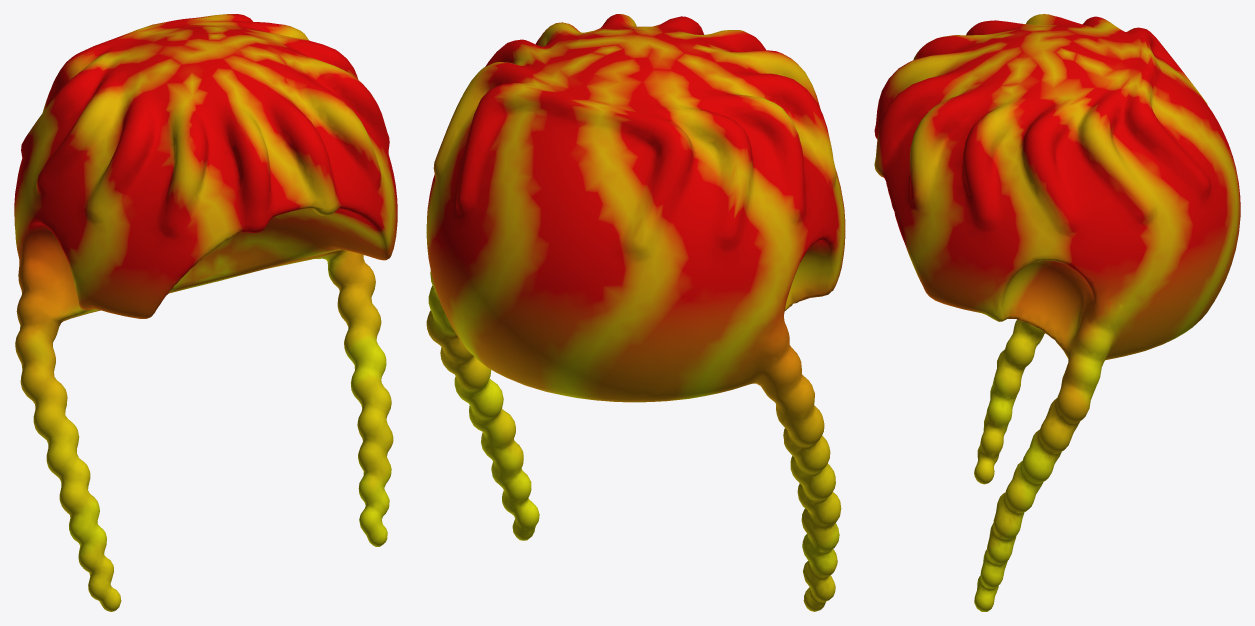
File: braids.glb
3 views of the same model, side by side, from view 1: azimuth 30°, elevation 25°; view 2: azimuth 150°, elevation 25°; view 3: azimuth 270°, elevation 25° (orthographic). The views are drawn at different scales.
Visible parts, largest first — view 1: part; view 2: part; view 3: part.
Part boxes in pixels (x1=…): part: x1=14, y1=14, x2=397, y2=611; part: x1=426, y1=14, x2=845, y2=611; part: x1=874, y1=14, x2=1240, y2=611.
Bounding box in the file's own units: 2.27 × 3.11 × 2.06.
